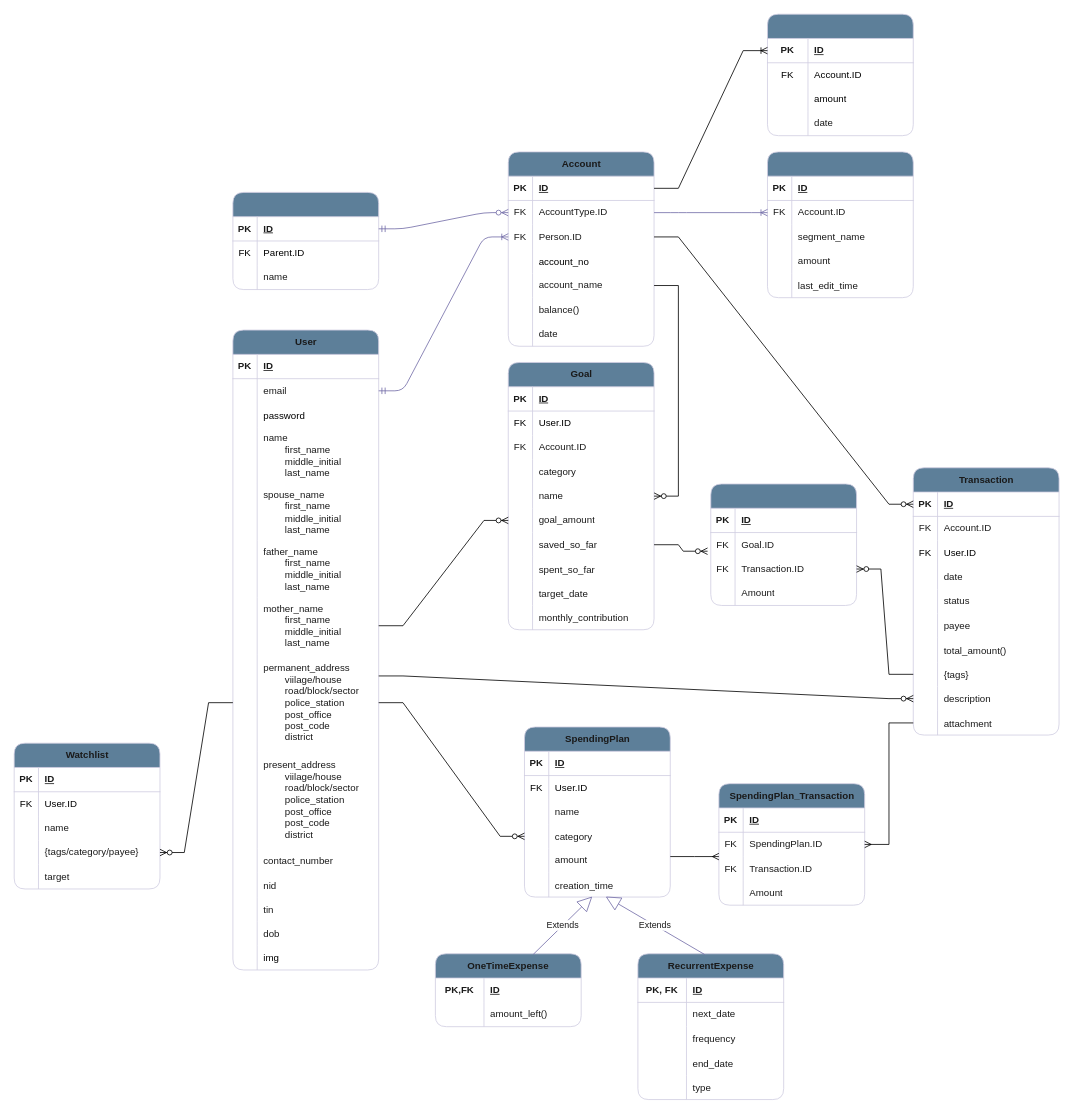
Image size: 1073x1114. Some labels were removed from this diagram. The box of each missing label's shape, as (x1, y1, x2, y2) in pixels:
AccountType: (232, 192, 379, 290)
BalanceSegment: (767, 151, 913, 298)
DepositeHistory: (767, 13, 913, 136)
Goal_Transaction: (710, 483, 857, 605)
